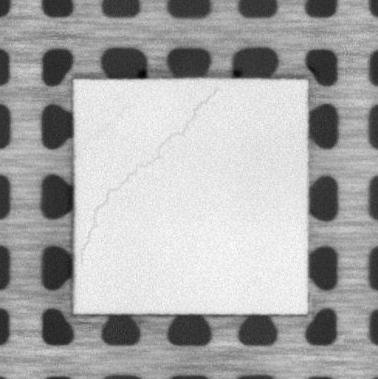DIE_CRACK: (80, 88, 216, 250)
